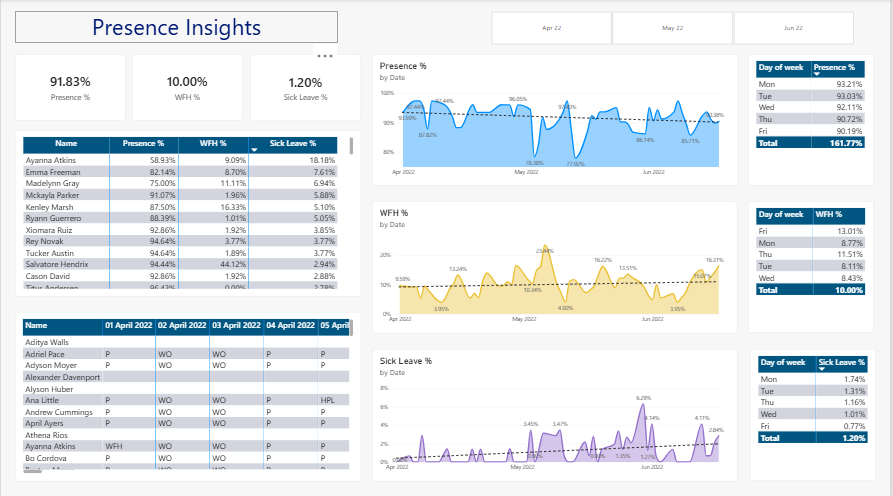

The dashboard page shown, as its layout file describes it:
{"tool":"powerbi","page":{"name":"Page 1","canvas":[1920,1080],"ordinal":0},"visuals":[{"type":"card","fields":{"Values":["Measures Table.Presence %"]},"box":[30.2,118,239,144],"z":0},{"type":"slicer","fields":{"Values":["AllMonthsHrData.Month"]},"box":[1038.2,26,822,74],"z":1000},{"type":"card","fields":{"Values":["Measures Table.WFH %"]},"box":[284,118,239,144],"z":2000},{"type":"card","fields":{"Values":["Measures Table.Sick Leave %"]},"box":[537.8,118.8,239.8,144.7],"z":3000},{"type":"tableEx","fields":{"Values":["AllMonthsHrData.Name","Measures Table.Presence %","Measures Table.WFH %","Measures Table.Sick Leave %"]},"box":[30.2,282,748,360],"z":4000},{"type":"textbox","box":[30.2,26,698,70],"z":5000},{"type":"areaChart","fields":{"Category":["AllMonthsHrData.Date"],"Y":["Measures Table.Presence %"]},"box":[801.4,118.8,790.6,285.1],"z":6000},{"type":"pivotTable","fields":{"Columns":["AllMonthsHrData.Date"],"Rows":["AllMonthsHrData.Name"],"Values":["Min(AllMonthsHrData.Value)"]},"box":[30.2,676,748,366],"z":7000},{"type":"areaChart","fields":{"Category":["AllMonthsHrData.Date"],"Y":["Measures Table.WFH %"]},"box":[802.2,437,790,286],"z":8000},{"type":"areaChart","fields":{"Category":["AllMonthsHrData.Date"],"Y":["Measures Table.Sick Leave %"]},"box":[802.2,756,790,286],"z":9000},{"type":"tableEx","fields":{"Values":["AllMonthsHrData.Day of week","Measures Table.Presence %"]},"box":[1613.5,118.8,272.2,285.1],"z":9001},{"type":"tableEx","fields":{"Values":["AllMonthsHrData.Day of week","Measures Table.WFH %"]},"box":[1613.5,436.3,272.2,285.1],"z":9002},{"type":"tableEx","fields":{"Values":["AllMonthsHrData.Day of week","Measures Table.Sick Leave %"]},"box":[1617.8,756,272.2,285.1],"z":9003}]}

Visuals, with their boxes in screenshot pixels (x1, y1, x2, y2), scaled from the page's 1920x1080 canvas onto the 893x496 screenshot:
card - Measures Table.Presence %: Rect(14, 54, 125, 120)
slicer - AllMonthsHrData.Month: Rect(483, 12, 865, 46)
card - Measures Table.WFH %: Rect(132, 54, 243, 120)
card - Measures Table.Sick Leave %: Rect(250, 55, 362, 121)
tableEx - AllMonthsHrData.Name x Measures Table.Presence %: Rect(14, 130, 362, 295)
textbox: Rect(14, 12, 339, 44)
areaChart - AllMonthsHrData.Date x Measures Table.Presence %: Rect(373, 55, 740, 185)
pivotTable - AllMonthsHrData.Date x AllMonthsHrData.Name: Rect(14, 310, 362, 479)
areaChart - AllMonthsHrData.Date x Measures Table.WFH %: Rect(373, 201, 741, 332)
areaChart - AllMonthsHrData.Date x Measures Table.Sick Leave %: Rect(373, 347, 741, 479)
tableEx - AllMonthsHrData.Day of week x Measures Table.Presence %: Rect(750, 55, 877, 185)
tableEx - AllMonthsHrData.Day of week x Measures Table.WFH %: Rect(750, 200, 877, 331)
tableEx - AllMonthsHrData.Day of week x Measures Table.Sick Leave %: Rect(752, 347, 879, 478)
